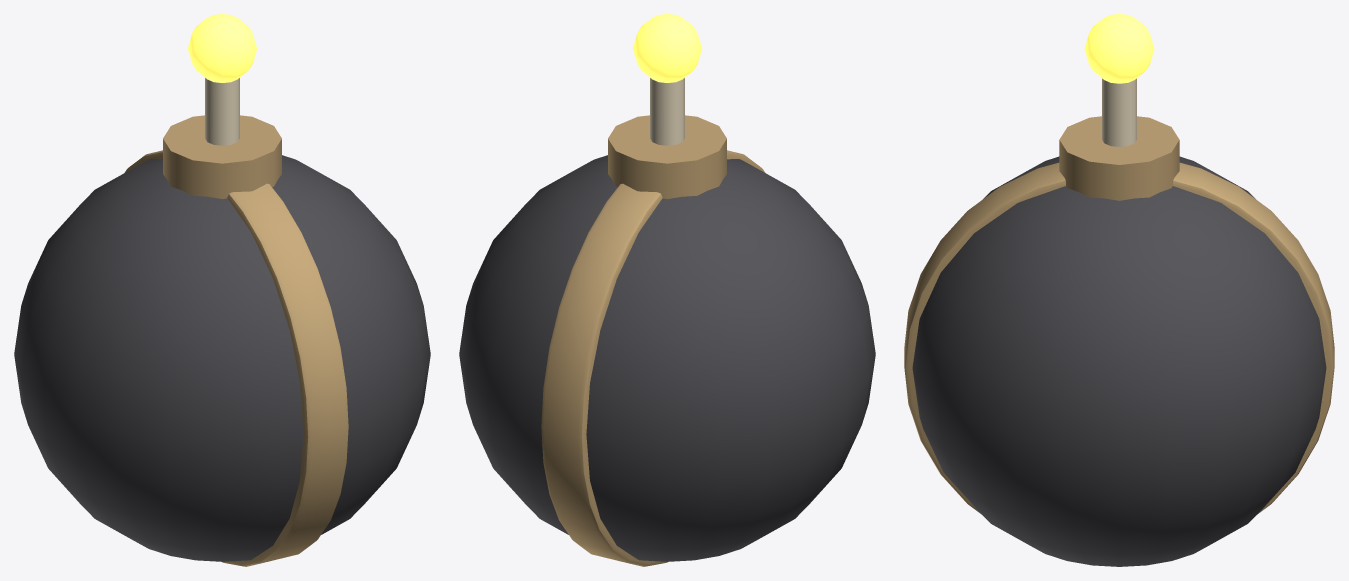
File: catapult_bomb.glb
The picture shows the model from 3 angles, left to right: view 1: azimuth 30°, elevation 25°; view 2: azimuth 150°, elevation 25°; view 3: azimuth 270°, elevation 25°; orthographic projection.
Visible parts, largest first — view 1: Bomb; view 2: Bomb; view 3: Bomb.
Part boxes in pixels (box(x1,y1,x2,y2)): Bomb: box(14, 14, 430, 566); Bomb: box(459, 14, 875, 566); Bomb: box(904, 14, 1334, 566).
Bounding box in the file's own units: 0.84 × 1.18 × 0.86.
